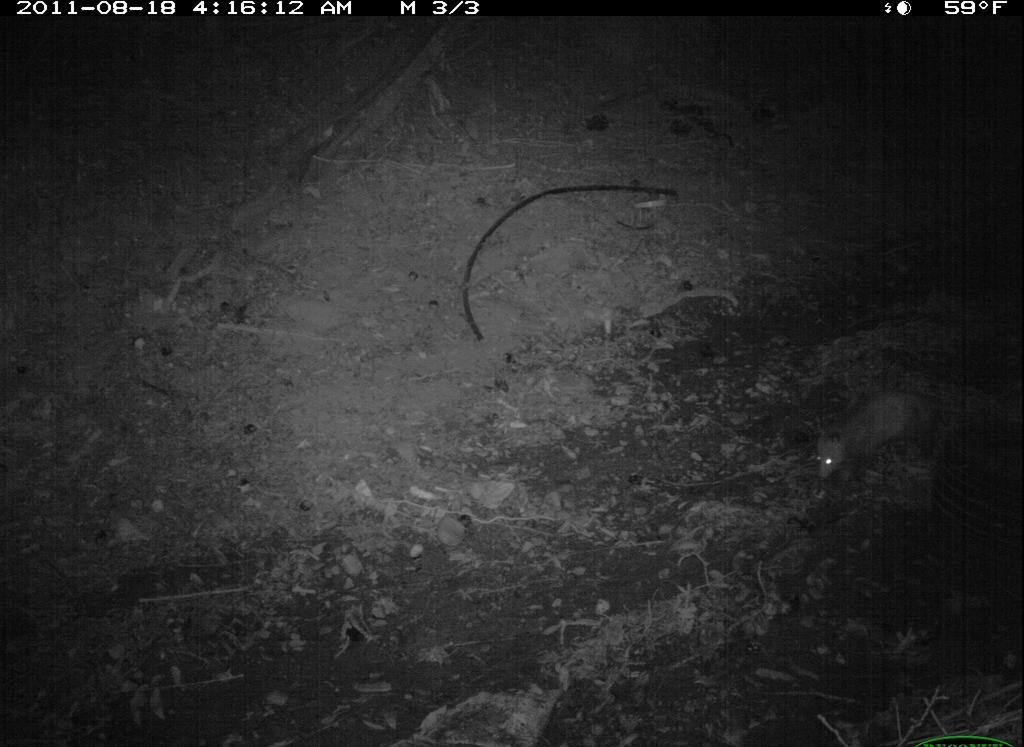opossum: (799, 386, 954, 496)
